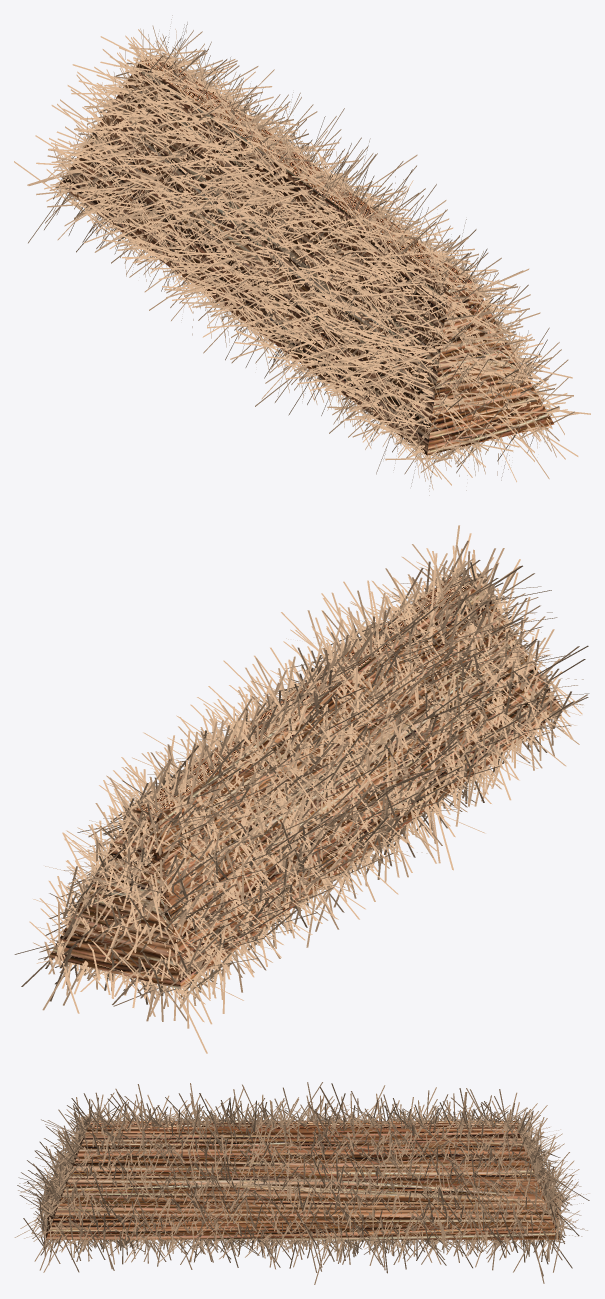
Rendered from Straw roof prism.fbx.
3 views of the same model, one above another, from view 1: azimuth 30°, elevation 25°; view 2: azimuth 150°, elevation 25°; view 3: azimuth 270°, elevation 25° (orthographic). The views are drawn at different scales.
Parts seen in each view (by area): view 1: Mesh.001; view 2: Mesh.001; view 3: Mesh.001.
Part boxes in pixels (box(x1,y1,x2,y2)): Mesh.001: box(14, 15, 590, 495); Mesh.001: box(14, 525, 589, 1053); Mesh.001: box(14, 1082, 589, 1284).
Bounding box in the file's own units: 361 × 375 × 1126.
